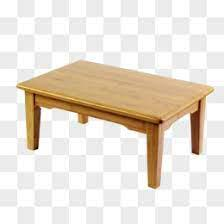desk: (7, 20, 212, 197)
